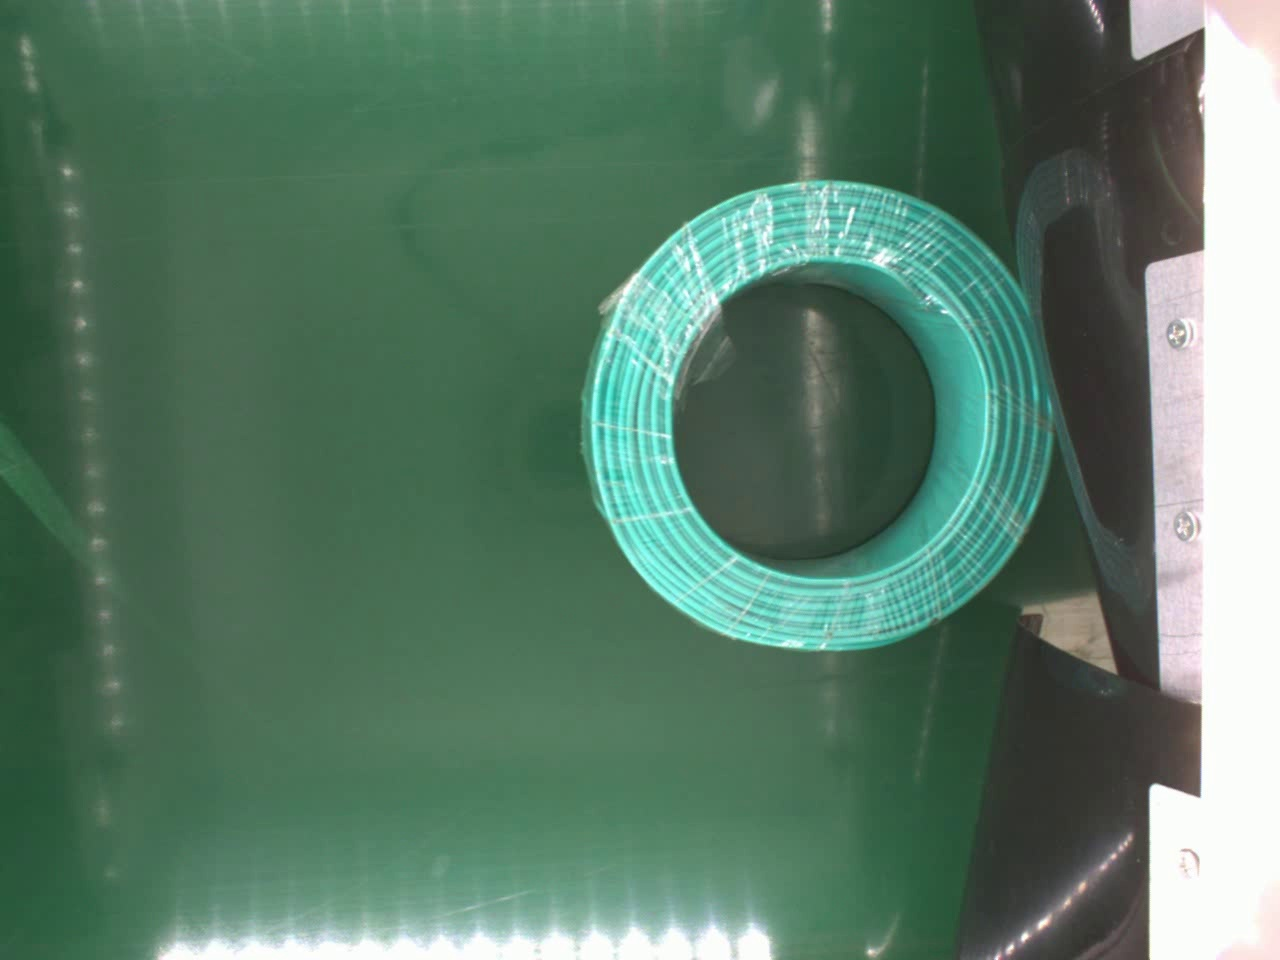green: (579, 177, 1056, 651)
